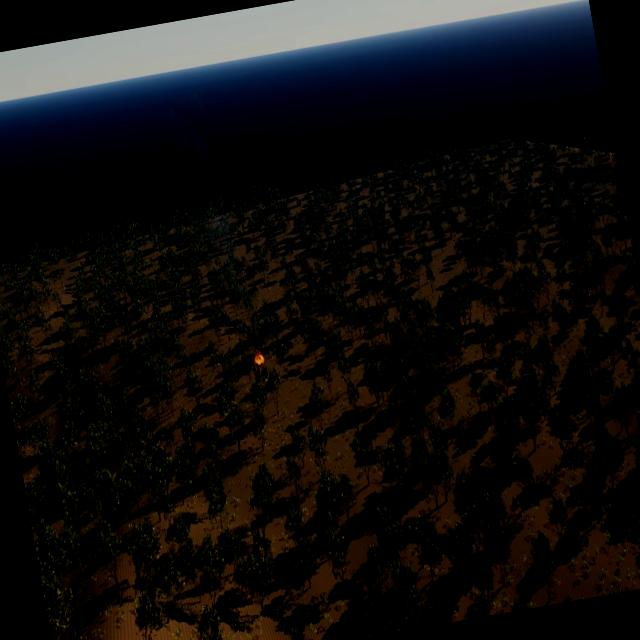fire: (253, 354, 266, 366)
smoke: (157, 88, 250, 306)
